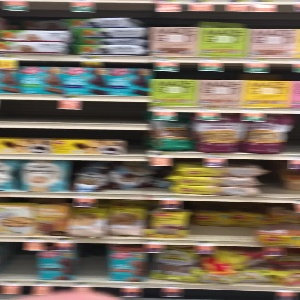void: (1, 97, 147, 128), (191, 199, 257, 241), (73, 242, 112, 283), (1, 244, 38, 284), (127, 129, 147, 158)
